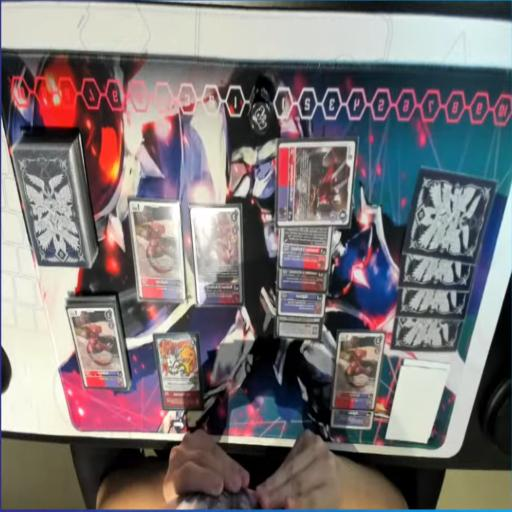card: (276, 137, 356, 229), (129, 195, 184, 305), (186, 202, 244, 303), (67, 300, 123, 394), (330, 332, 390, 410), (152, 329, 206, 413), (276, 223, 335, 269), (276, 290, 326, 317), (274, 312, 322, 340), (276, 268, 329, 292), (330, 412, 375, 430)
